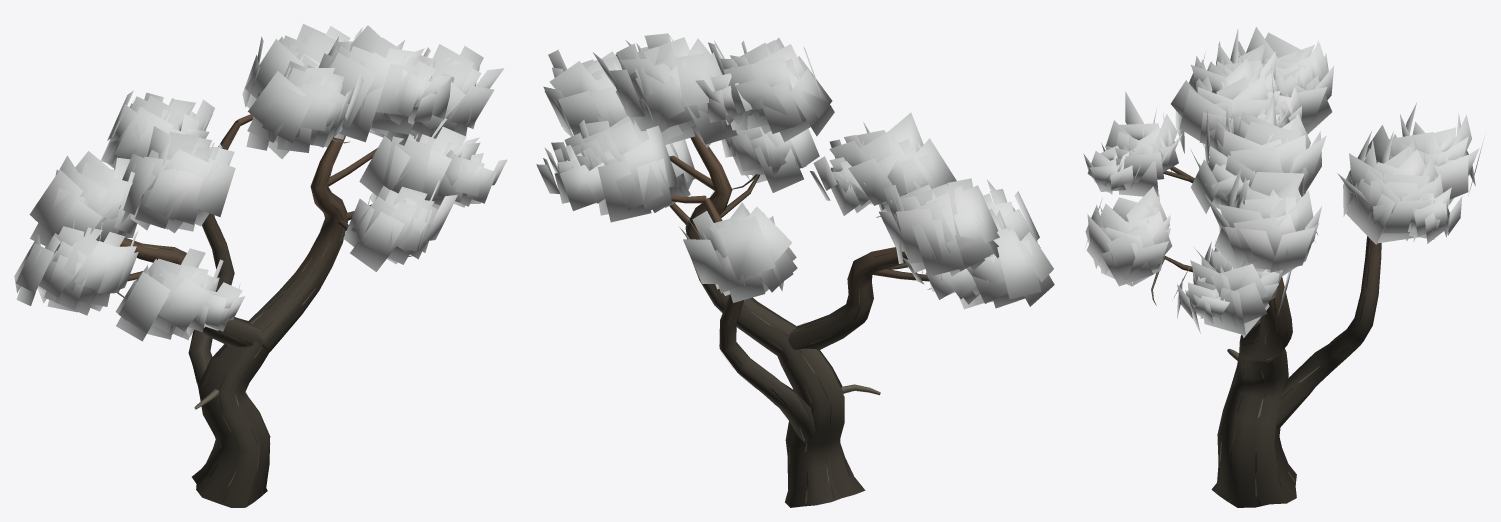
3 renders of one model, left to right at view 1: azimuth 30°, elevation 25°; view 2: azimuth 150°, elevation 25°; view 3: azimuth 270°, elevation 25°, orthographic. The views are drawn at different scales.
Parts seen in each view (by area): view 1: crown, trunk; view 2: crown, trunk; view 3: crown, trunk.
Boxes of the visible parts, left/top/right/bottom form: crown: left=14, top=23, right=507, bottom=341; trunk: left=117, top=114, right=412, bottom=507; crown: left=536, top=33, right=1054, bottom=309; trunk: left=669, top=130, right=931, bottom=507; crown: left=1083, top=27, right=1485, bottom=337; trunk: left=1151, top=166, right=1381, bottom=507.
Size of the model in its own units: 9.97 by 8.38 by 6.42.
